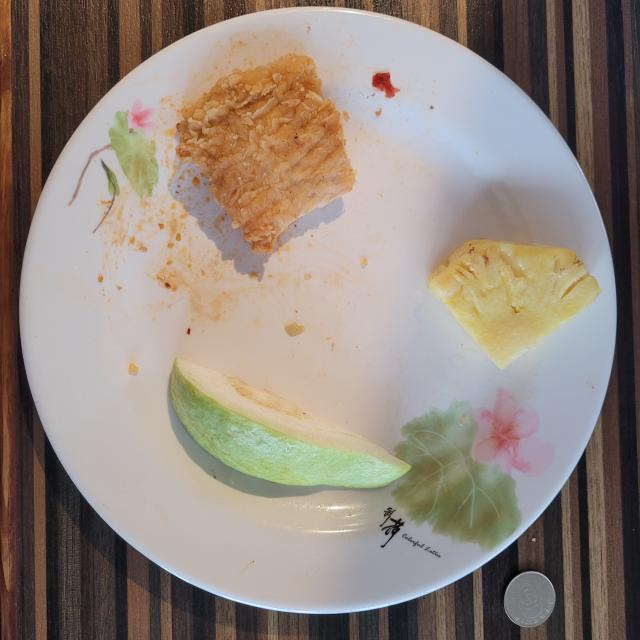coin: (504, 571, 555, 628)
fried chicken cutlet: (176, 54, 355, 254)
guava -sliced-: (170, 358, 411, 489)
pineapple: (428, 239, 600, 369)
